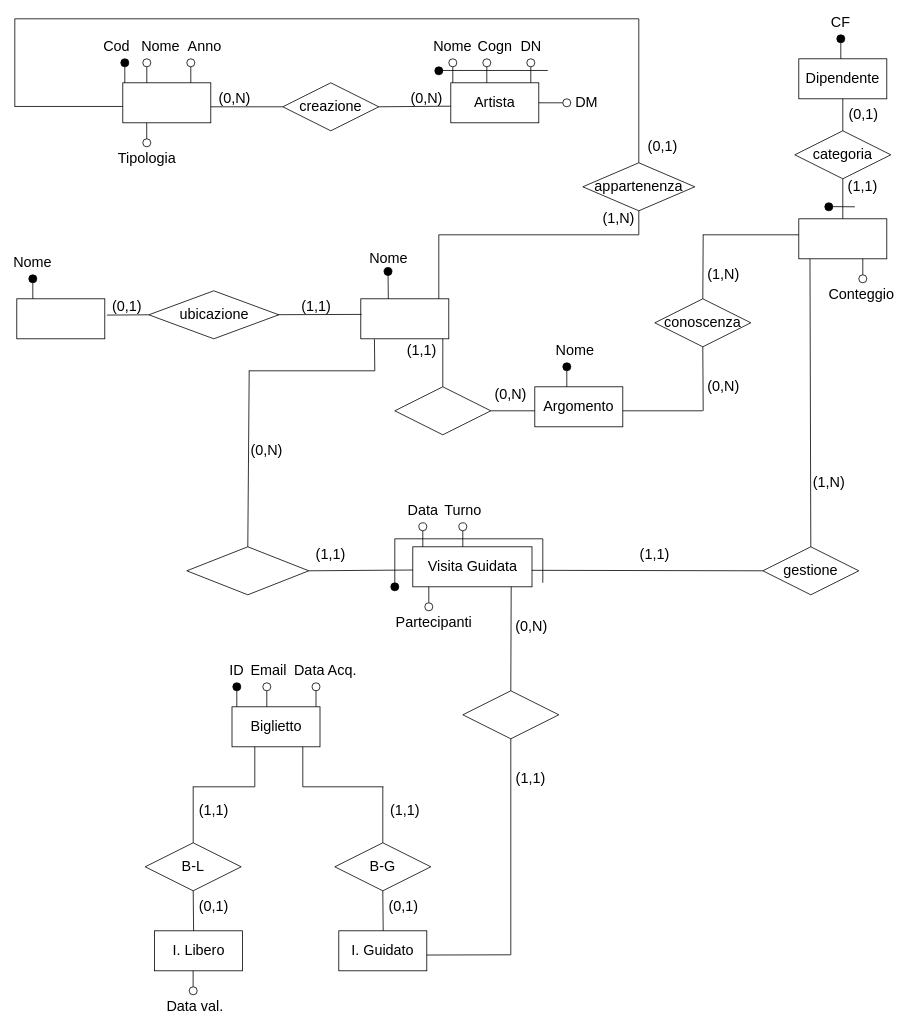
This 908x1029 diagram has some shape labels left out. The centre of each missing label's shape, as x and y in pixels:
"Area" goes at [60,318].
"Artefatto" goes at [166,102].
"Esposizione" goes at [404,318].
"Guida" goes at [842,238].
"presentazione" goes at [247,570].
"riferimento" goes at [510,714].
"trattazione" goes at [442,410].
